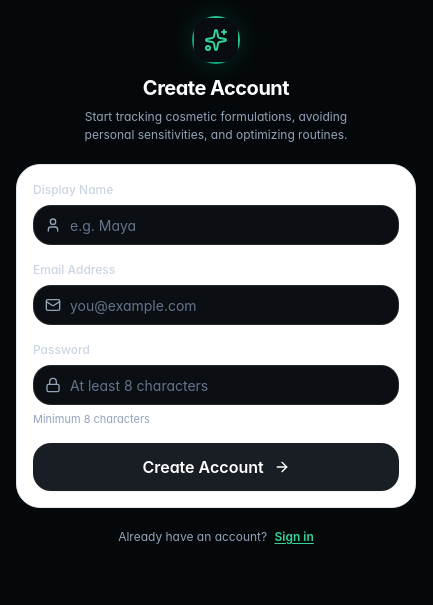
Test: Auth UI Components & ProtectedRoute Guard › RegisterPage › renders accessible inputs and validates client fields
Expected: the field labelled "Display Name" is shown, [33,205,399,245]
Expected: the field labelled "Email Address" is shown, [33,285,399,325]
Click the button "Create Account". click: (216, 467)
box: [33,443,399,491]
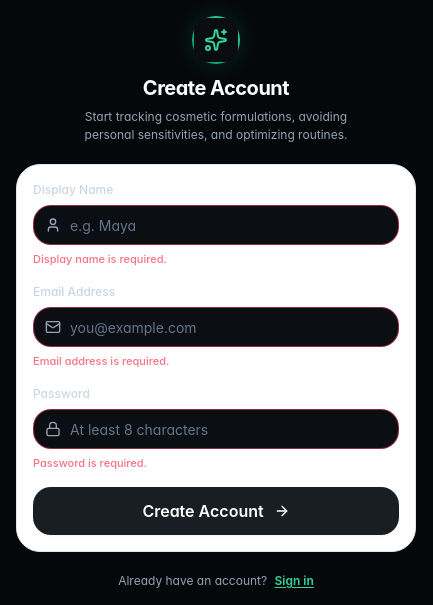
Expected: the text "Display name is required." is shown, [33,252,167,266]
Expected: the text "Email address is required." is shown, [33,354,169,368]
Expected: the text "Password is required." is shown, [33,456,147,470]
